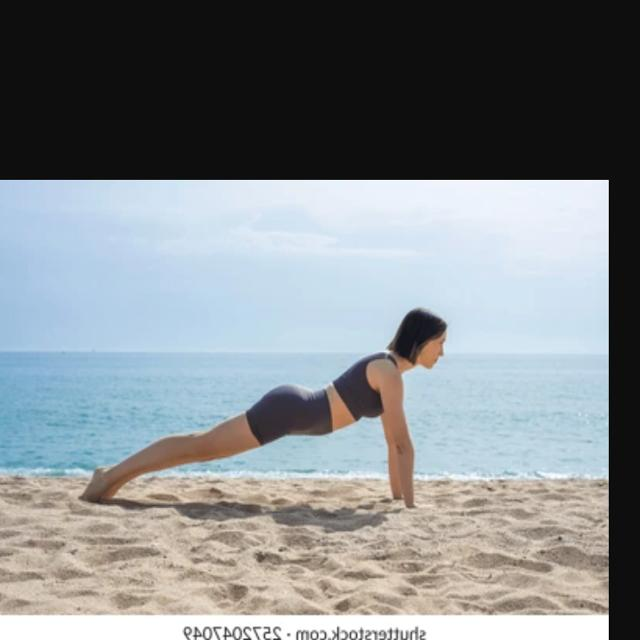Plank_Pose: (71, 306, 470, 520)
